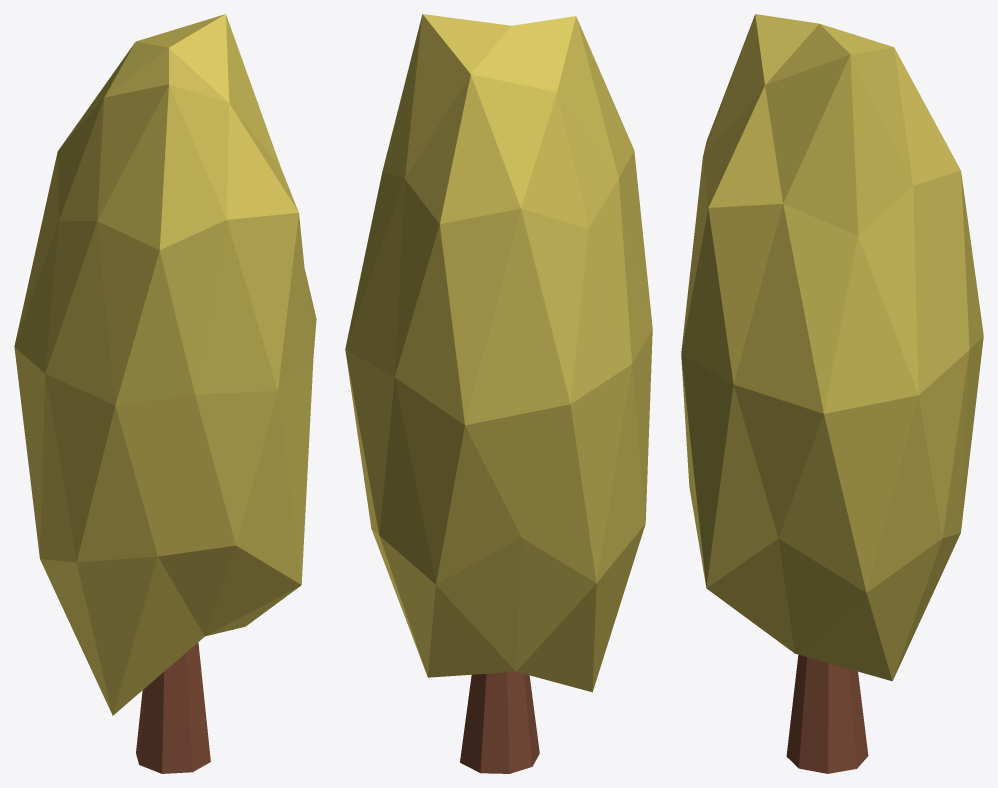
File: Tree_05_autumn_mat.fbx
3 renders of one model, left to right at view 1: azimuth 30°, elevation 25°; view 2: azimuth 150°, elevation 25°; view 3: azimuth 270°, elevation 25°, orthographic. The views are drawn at different scales.
Parts seen in each view (by area): view 1: Tree_05_autumn_mat; view 2: Tree_05_autumn_mat; view 3: Tree_05_autumn_mat.
Boxes of the visible parts, bbox=[...] form: Tree_05_autumn_mat: bbox=[14, 14, 316, 773]; Tree_05_autumn_mat: bbox=[345, 14, 652, 773]; Tree_05_autumn_mat: bbox=[681, 14, 983, 773].
Size of the model in its own units: 418 by 1063 by 397.
